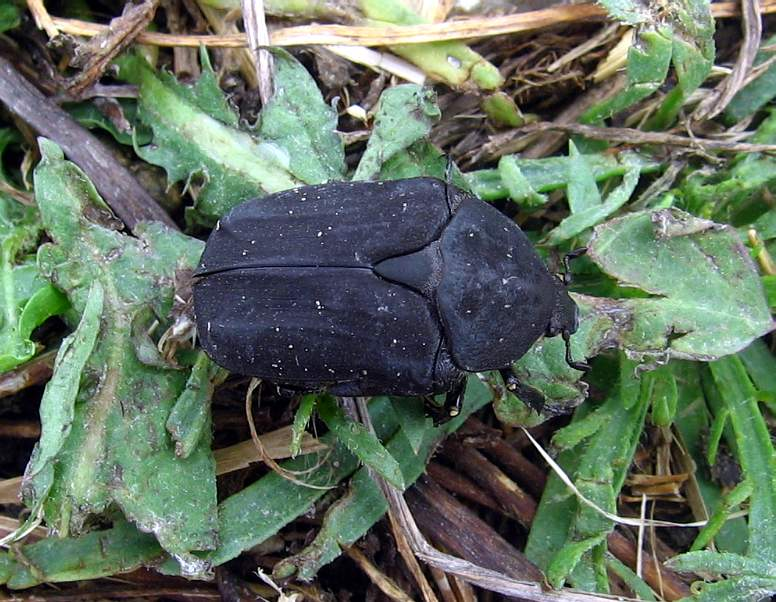Protaetia_morio_morio: (176, 166, 597, 438)
